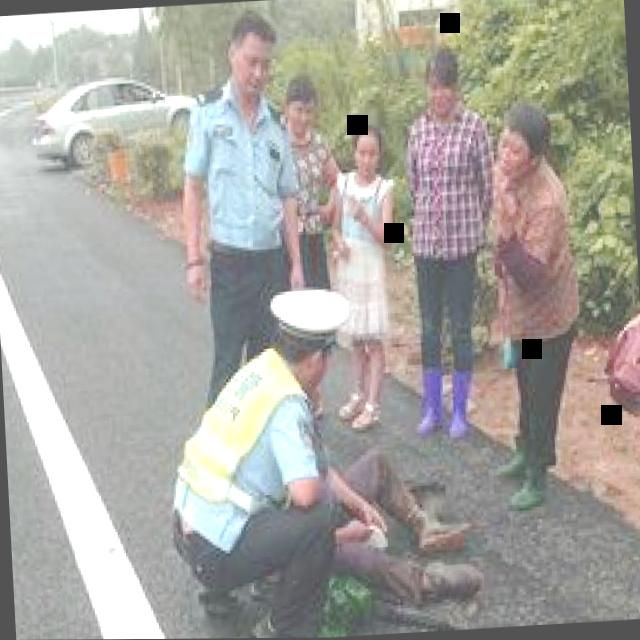Fall-Detected: (294, 396, 494, 627)
